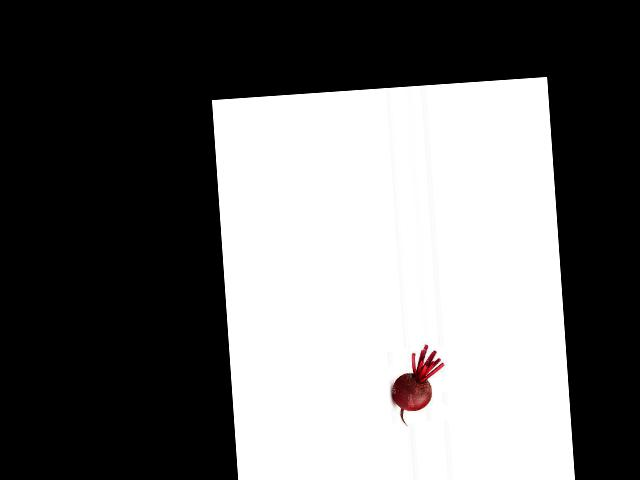beet: (389, 343, 447, 426)
